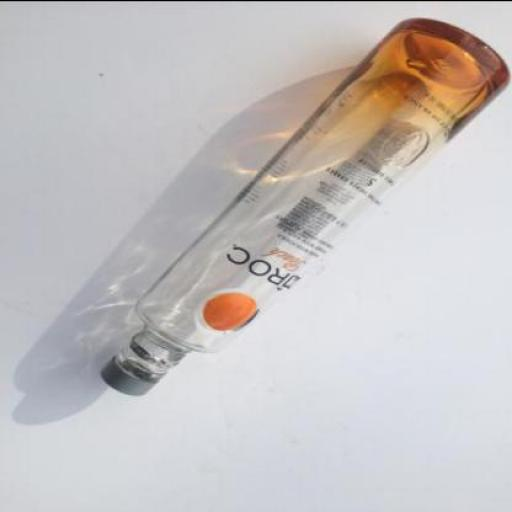glass: (117, 18, 511, 380)
metal: (100, 357, 151, 397)
